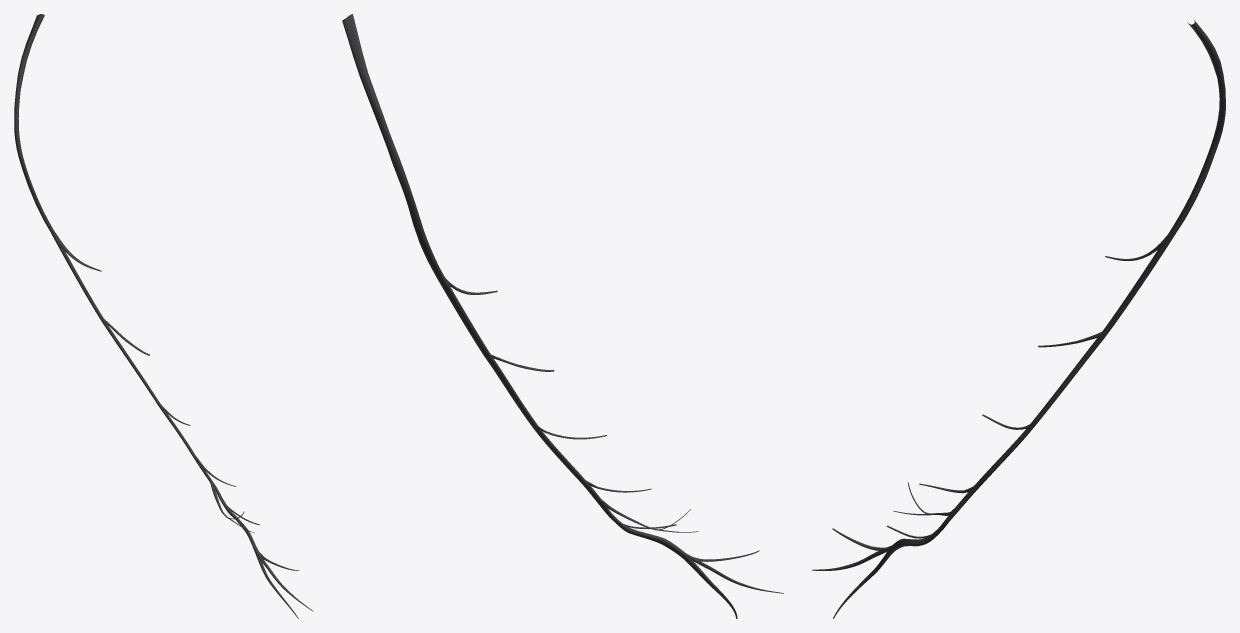
The model's file is N_5_trigeminus_mandibular_inferior_alveolar.glb.
3 renders of one model, left to right at view 1: azimuth 90°, elevation 25°; view 2: azimuth 150°, elevation 25°; view 3: azimuth 270°, elevation 25°, orthographic. The views are drawn at different scales.
Visible parts, largest first — view 1: N_5_trigeminus_mandibular_inferior_alveolar; view 2: N_5_trigeminus_mandibular_inferior_alveolar; view 3: N_5_trigeminus_mandibular_inferior_alveolar.
Boxes of the visible parts, x1,y1,x2,y2 form: N_5_trigeminus_mandibular_inferior_alveolar: [14, 14, 313, 618]; N_5_trigeminus_mandibular_inferior_alveolar: [342, 14, 783, 618]; N_5_trigeminus_mandibular_inferior_alveolar: [812, 19, 1225, 618].
Size of the model in its own units: 0.0254 by 0.0617 by 0.0321.
Materials: 1 (1 with a texture image).
